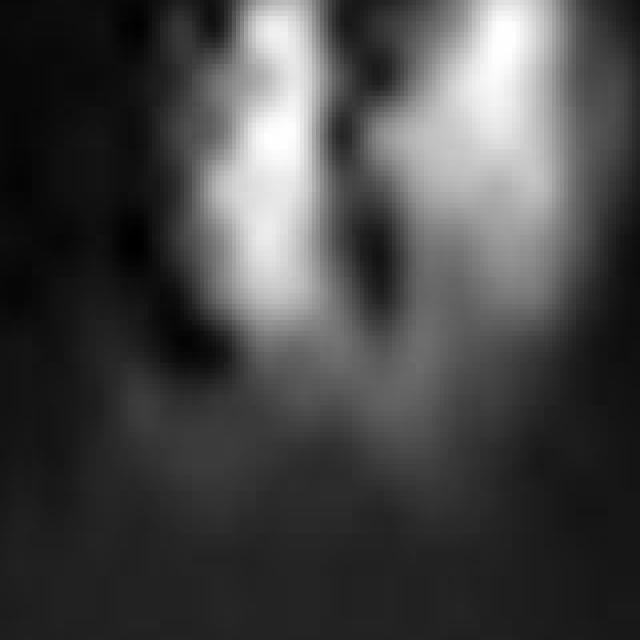person: (389, 1, 617, 470), (197, 1, 353, 486)
